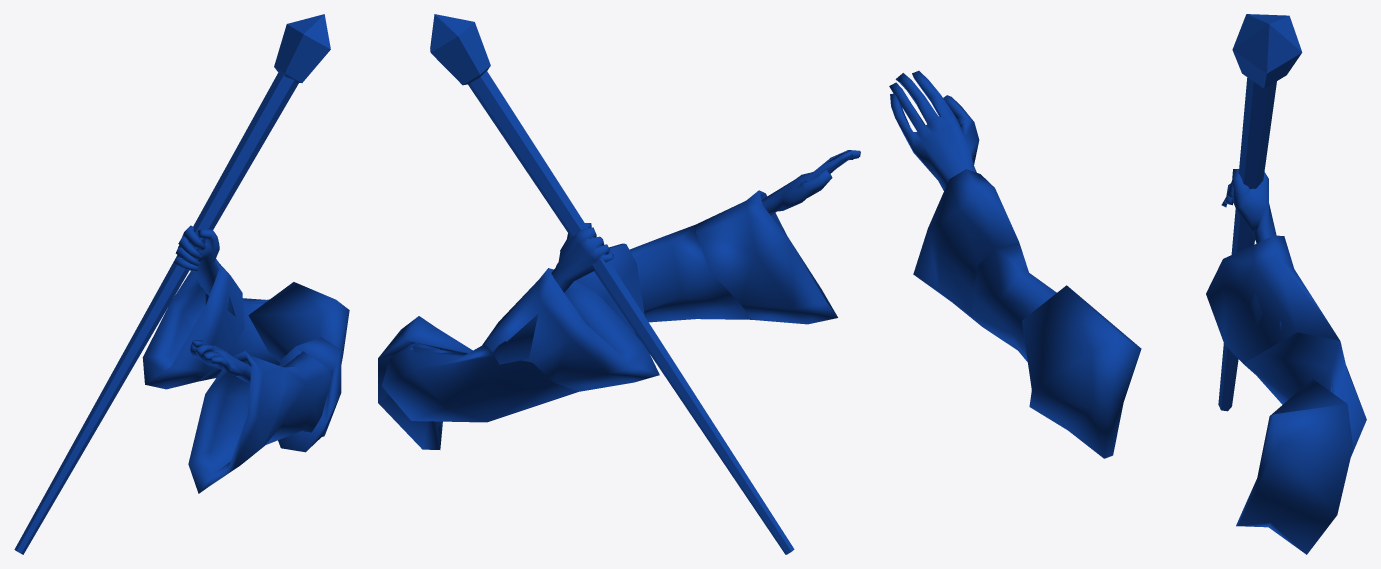
The model's file is arm_000054.obj.
3 renders of one model, left to right at view 1: azimuth 30°, elevation 25°; view 2: azimuth 150°, elevation 25°; view 3: azimuth 270°, elevation 25°, orthographic. The views are drawn at different scales.
Visible parts, largest first — view 1: Wizard_Plane.002; view 2: Wizard_Plane.002; view 3: Wizard_Plane.002.
Part boxes in pixels (x1=…): Wizard_Plane.002: x1=14, y1=14, x2=349, y2=554; Wizard_Plane.002: x1=378, y1=14, x2=860, y2=554; Wizard_Plane.002: x1=889, y1=14, x2=1366, y2=554.
Size of the model in its own units: 1.16 by 1.41 by 1.03.
